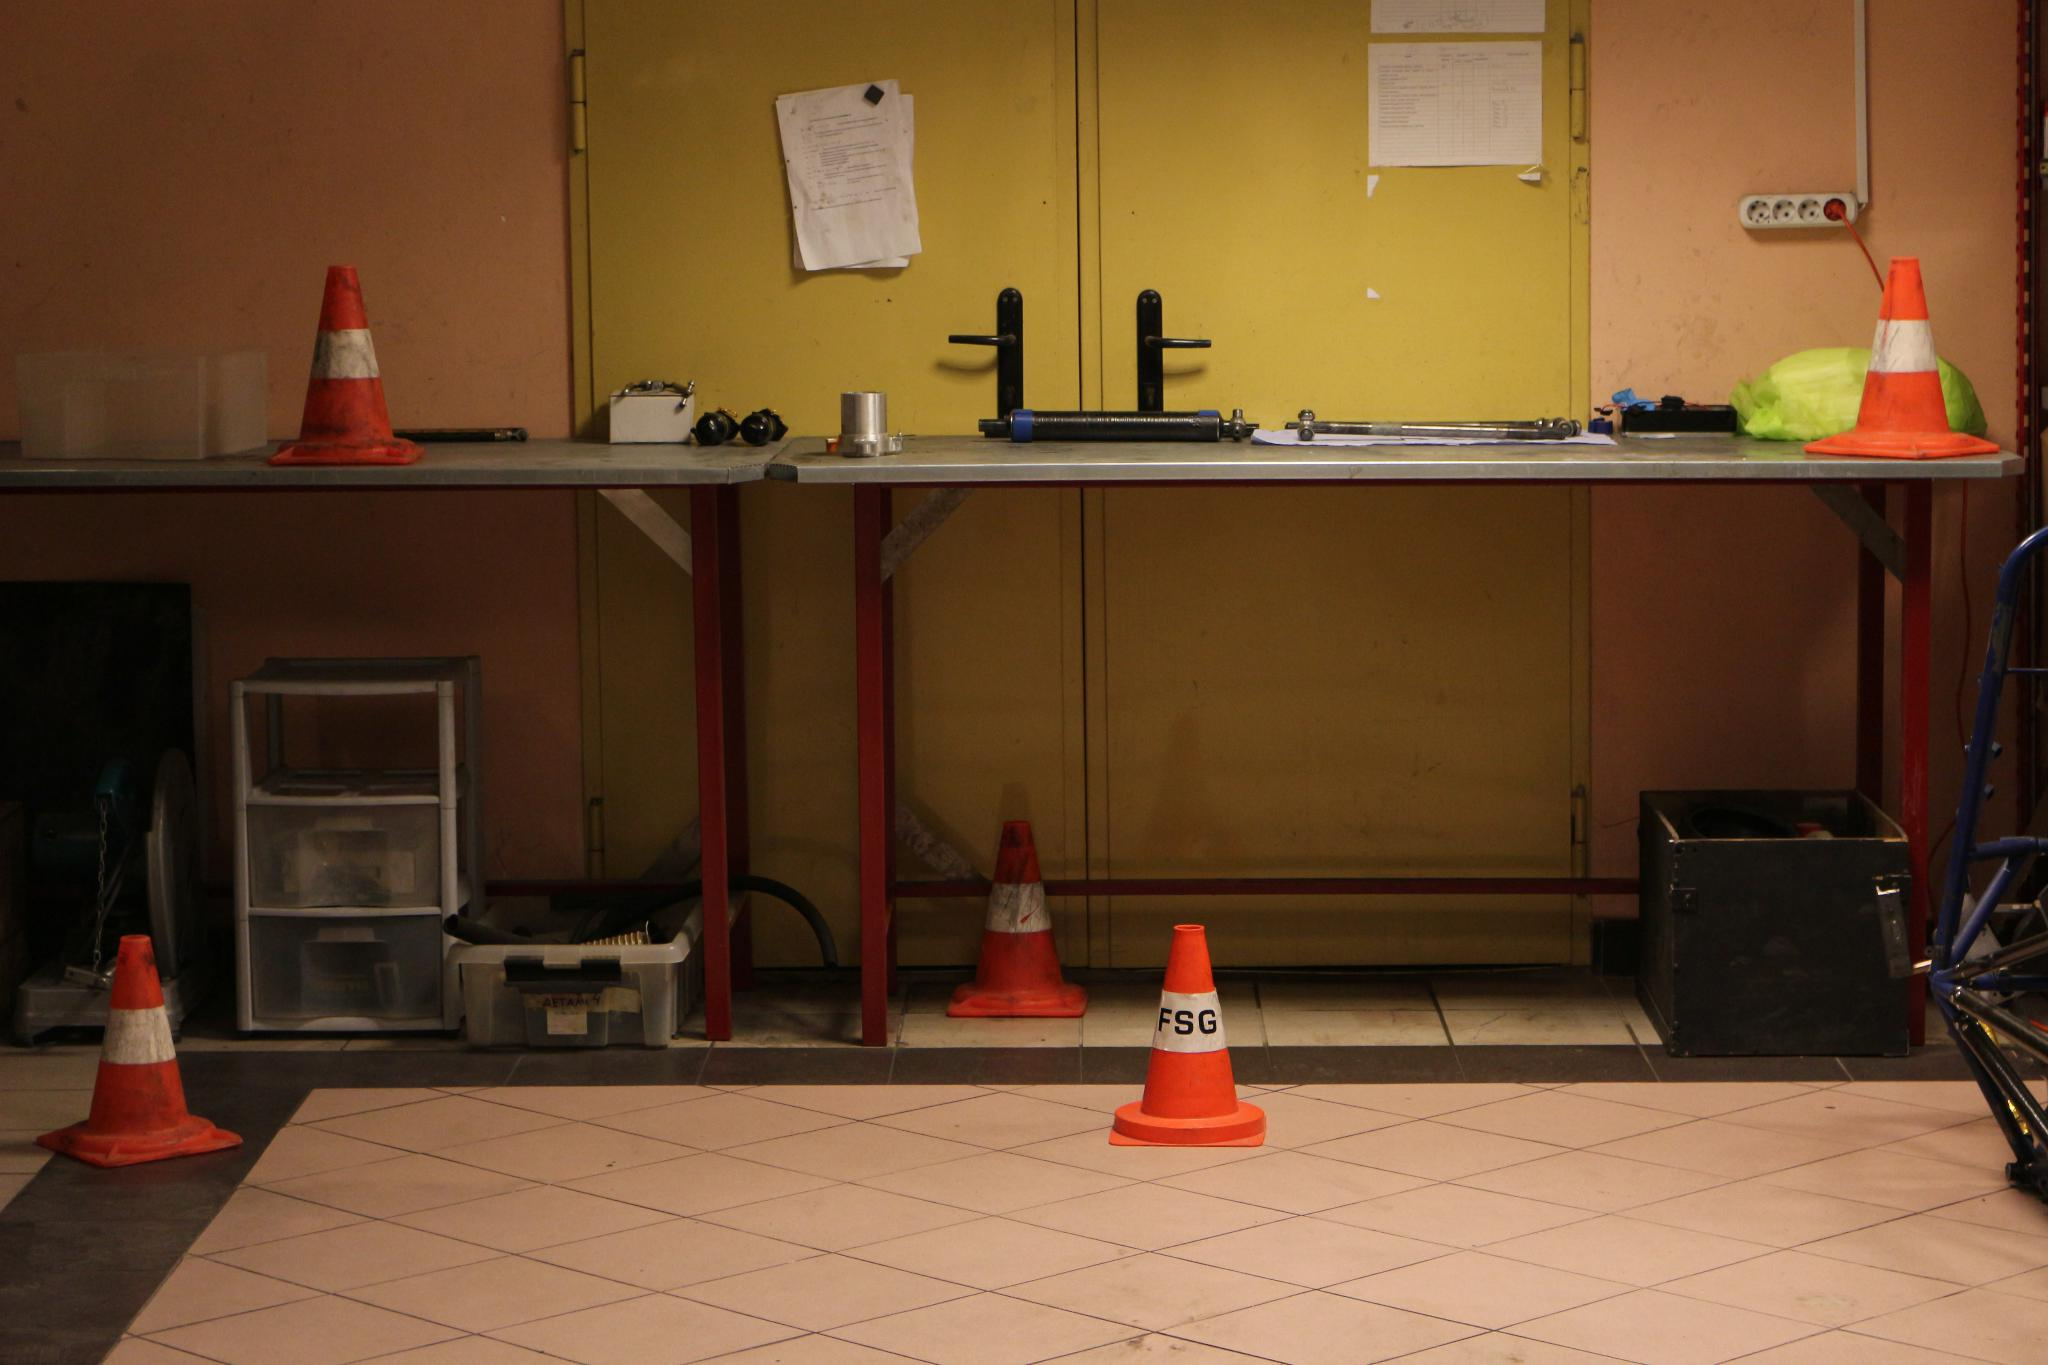Orange_Cone: (50, 931, 231, 1172), (1807, 247, 1995, 463), (1099, 920, 1265, 1153), (257, 261, 425, 469), (938, 812, 1090, 1021)
